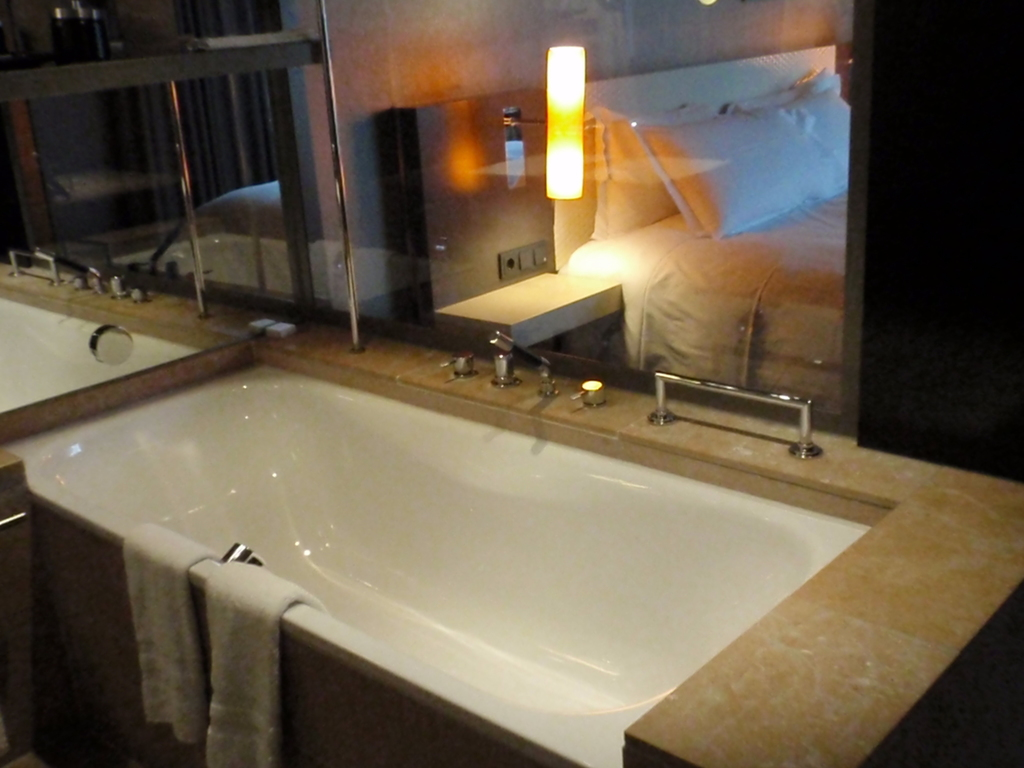tap: (489, 328, 554, 388)
